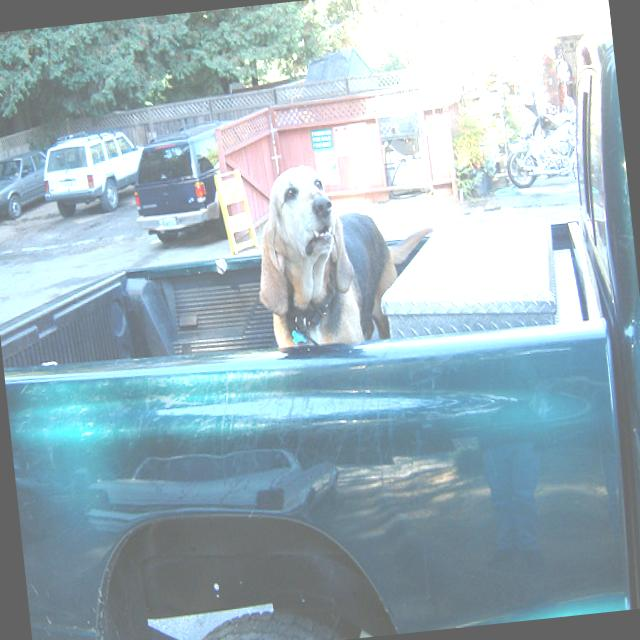Vehicle: (0, 26, 640, 640), (126, 115, 240, 247), (38, 124, 148, 219), (502, 120, 580, 190), (0, 146, 52, 225), (528, 95, 578, 144)
